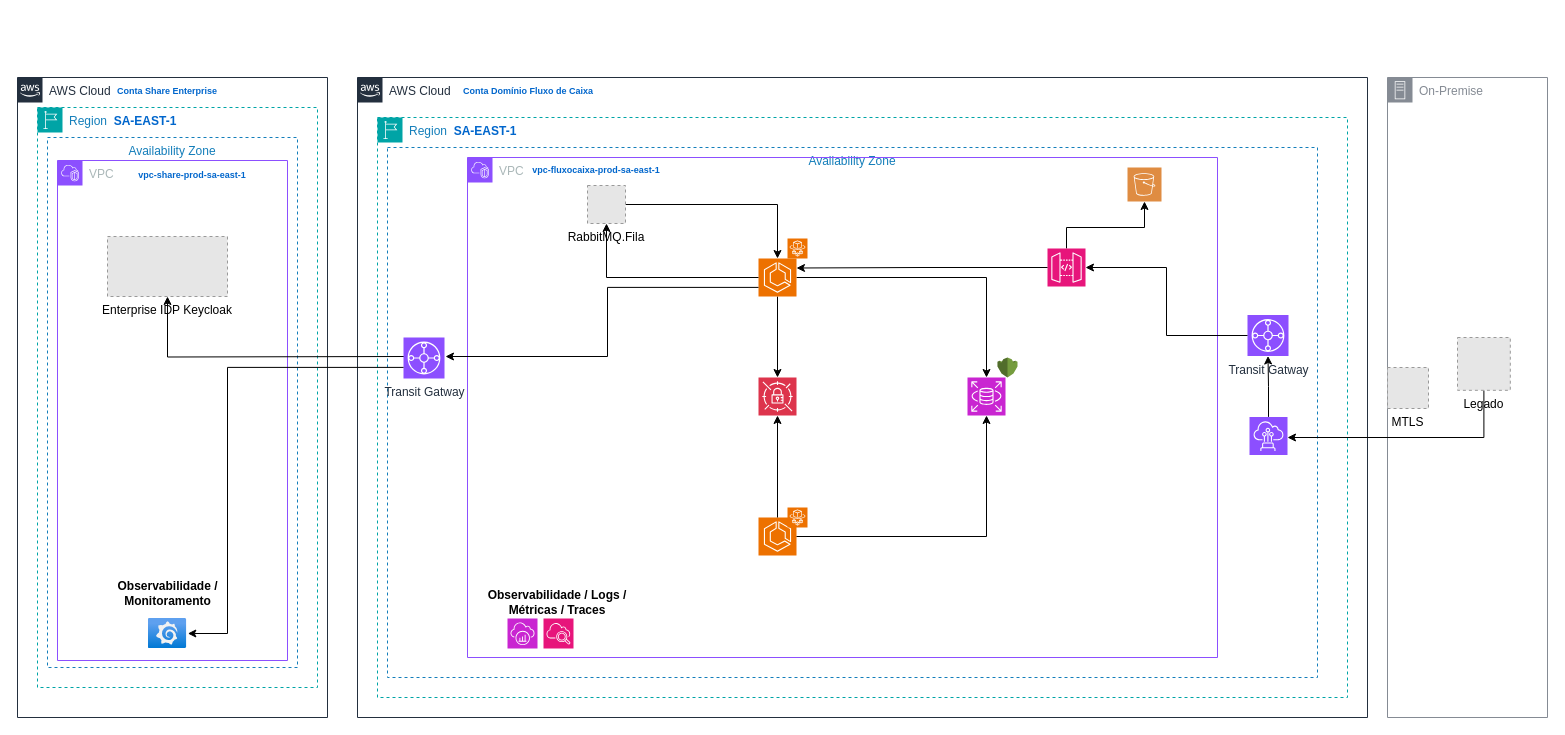
Some shapes in this 1565 by 735 pixel diagram are drawn without their labels. Grey dashed boxes stand in for pictures. The shapes that lost their labels are listed below. From the top down, each one's centre as x and y in pixels, then its label:
At point 1144,184: "CA TrustStore".
At point 777,277: "MS.FluxoDeCaixa".
At point 1066,267: "APG.FluxoCaixa".
At point 777,396: "SecretsManager.FluxoDeCaixa".
At point 986,396: "Postgres.FluxoDeCaixa".
At point 1268,435: "Direct Connect".
At point 777,536: "WKR.Consolidacao".
